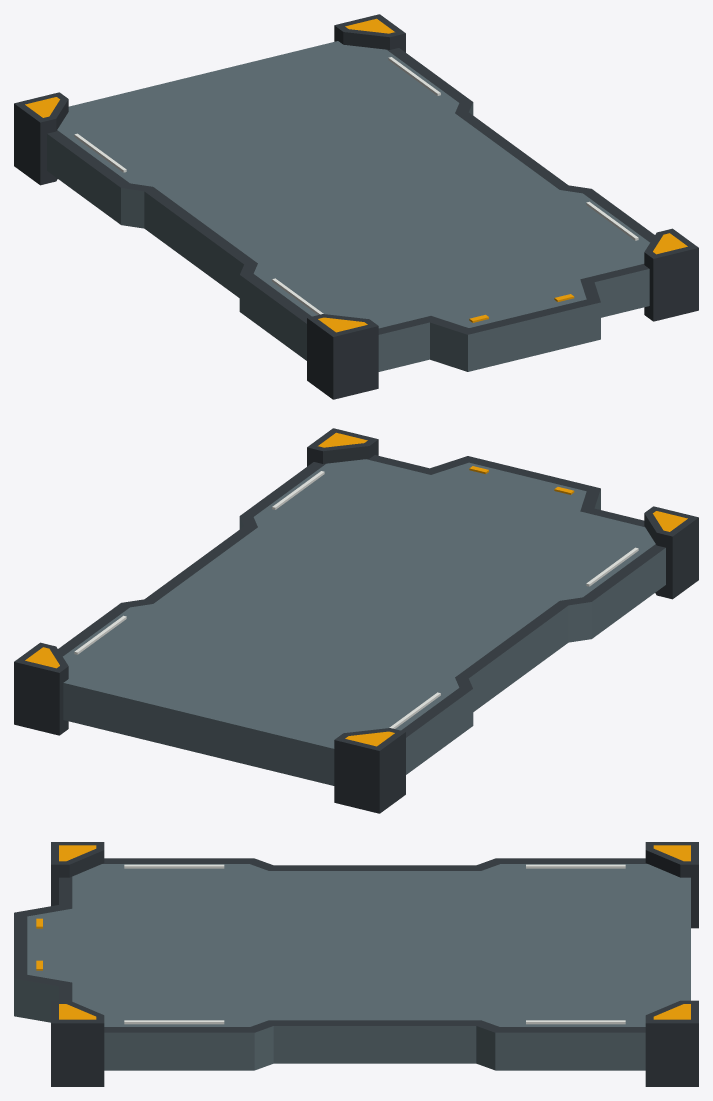
The model's file is prop42.FBX.
3 renders of one model, top to bottom at view 1: azimuth 30°, elevation 25°; view 2: azimuth 150°, elevation 25°; view 3: azimuth 270°, elevation 25°, orthographic.
Visible parts, largest first — view 1: prop42; view 2: prop42; view 3: prop42.
Part boxes in pixels (x1,y1,x2,y2): prop42: [14, 14, 698, 399]; prop42: [14, 428, 698, 813]; prop42: [14, 842, 698, 1086].
Bounding box in the file's own units: 23.2 × 3.81 × 37.09.
